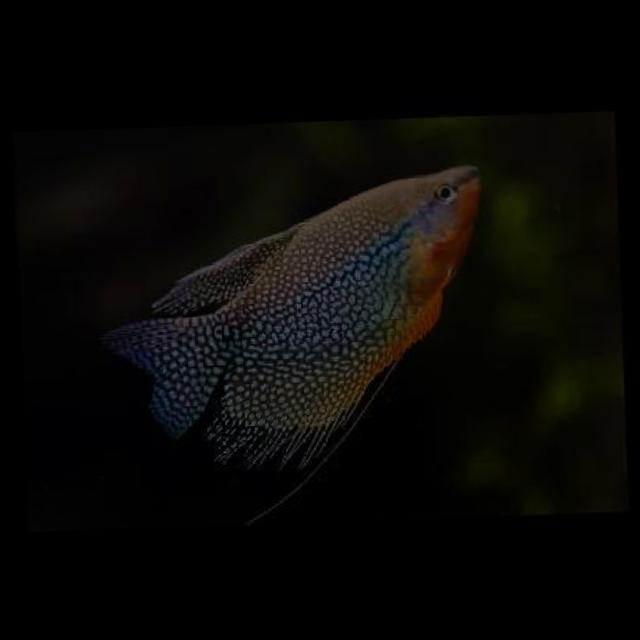Gourami: (93, 153, 497, 461)
